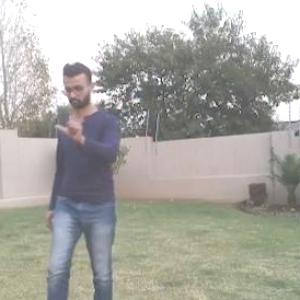land_hand: (52, 103, 88, 149)
